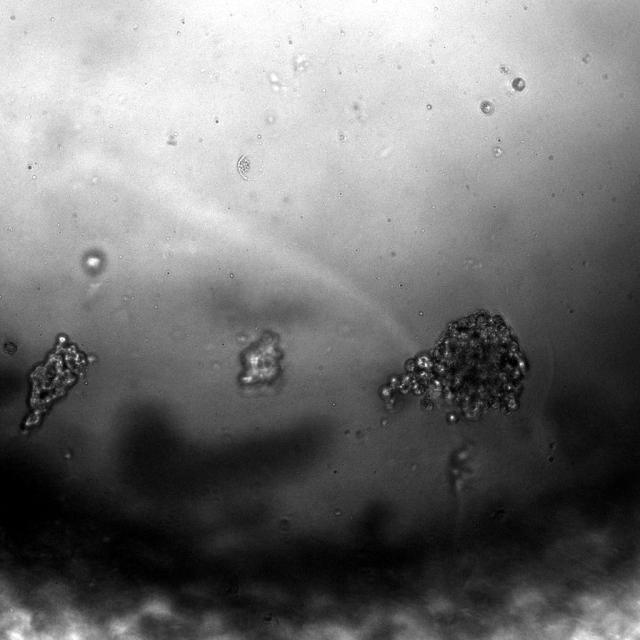organoid: (381, 308, 530, 425), (21, 333, 94, 434), (238, 332, 283, 386), (479, 100, 495, 116), (511, 76, 526, 91)
